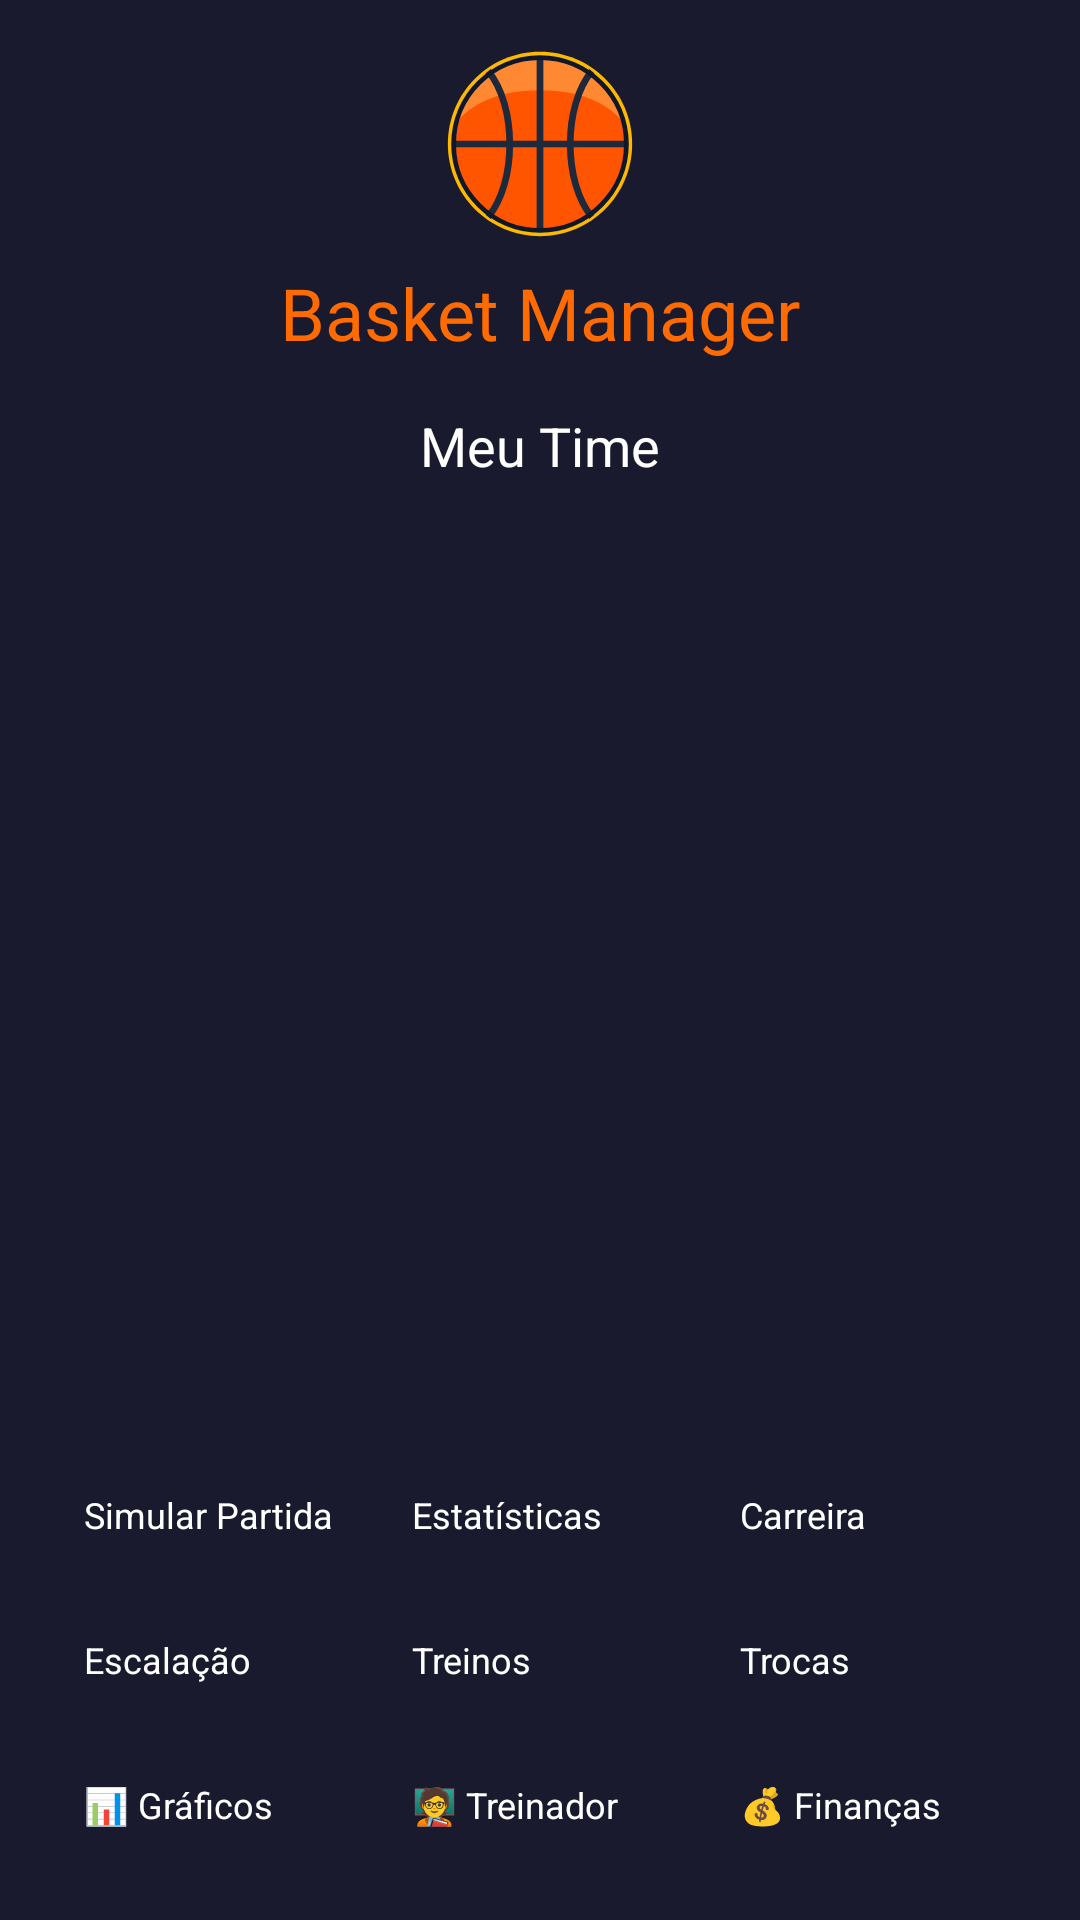

Icons on this 1080*1920 Android screen, each with the point to tap as point (x, y):
basketball: point (540, 144)
